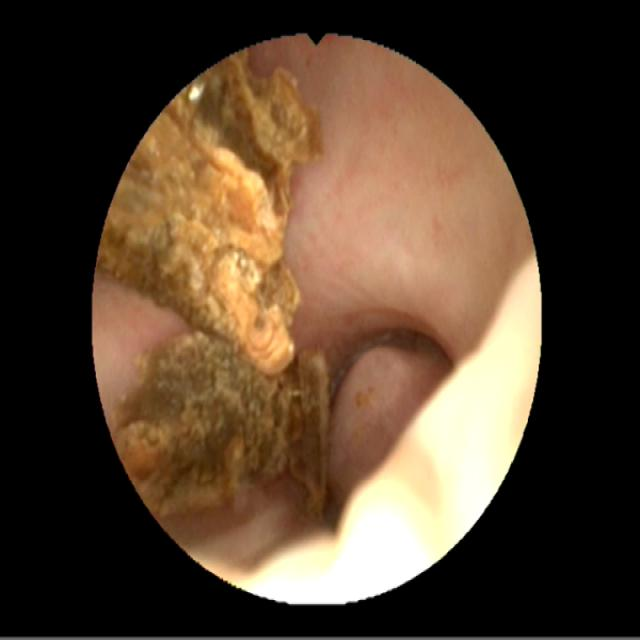stone: (107, 58, 329, 520)
